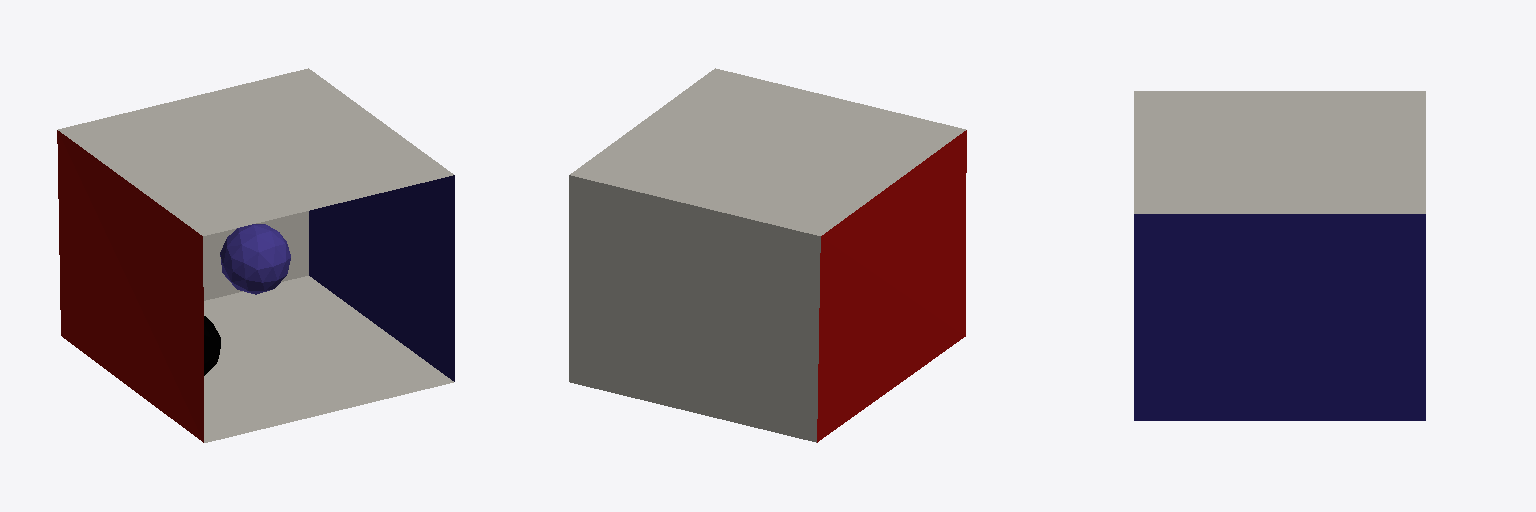
The model's file is CornellBox-Sphere-422.obj.
3 views of the same model, side by side, from view 1: azimuth 30°, elevation 25°; view 2: azimuth 150°, elevation 25°; view 3: azimuth 270°, elevation 25° (orthographic).
Parts seen in each view (by area): view 1: ceiling, leftWall, floor, rightWall, leftSphere, backWall, rightSphere; view 2: backWall, ceiling, leftWall; view 3: rightWall, ceiling.
Boxes of the visible parts, <box> form: ceiling: <box>58,68,453,235</box>; leftWall: <box>57,130,203,442</box>; floor: <box>204,276,453,442</box>; rightWall: <box>309,175,454,381</box>; leftSphere: <box>220,224,290,294</box>; backWall: <box>203,211,308,300</box>; rightSphere: <box>204,316,220,375</box>; backWall: <box>569,175,820,442</box>; ceiling: <box>570,68,965,235</box>; leftWall: <box>817,130,966,442</box>; rightWall: <box>1134,214,1425,420</box>; ceiling: <box>1134,91,1425,213</box>.
Size of the model in its own units: 2.02 by 1.59 by 2.03.